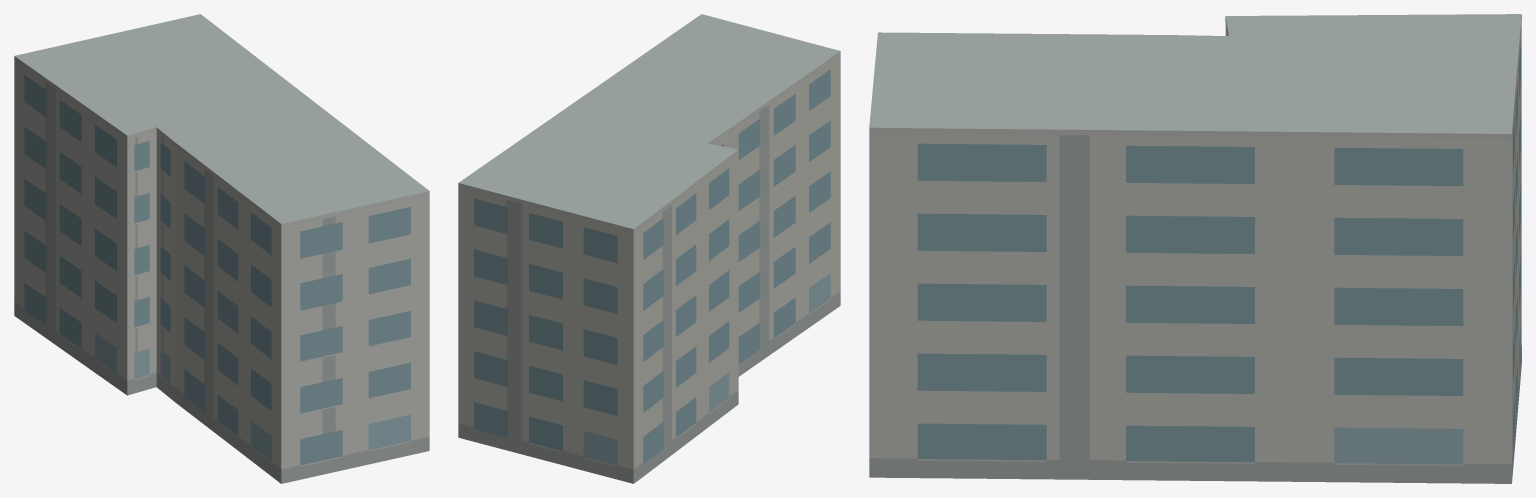
The model's file is survey-upis-32983044.glb.
3 renders of one model, left to right at view 1: azimuth 30°, elevation 25°; view 2: azimuth 150°, elevation 25°; view 3: azimuth 270°, elevation 25°, orthographic. The views are drawn at different scales.
Visible parts, largest first — view 1: survey-upis-32983044.tmp; view 2: survey-upis-32983044.tmp; view 3: survey-upis-32983044.tmp.
Boxes of the visible parts, box(x1,y1,x2,y2) form: survey-upis-32983044.tmp: box(14, 14, 429, 483); survey-upis-32983044.tmp: box(458, 14, 840, 483); survey-upis-32983044.tmp: box(869, 14, 1521, 483).
Bounding box in the file's own units: 11.23 × 15.25 × 25.79.
